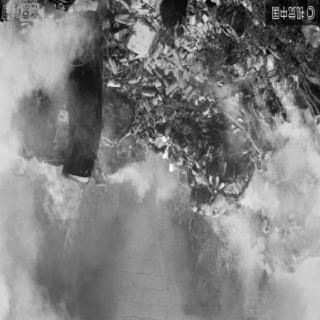Fire: (35, 158, 83, 252)
Smoke: (106, 150, 182, 214)
